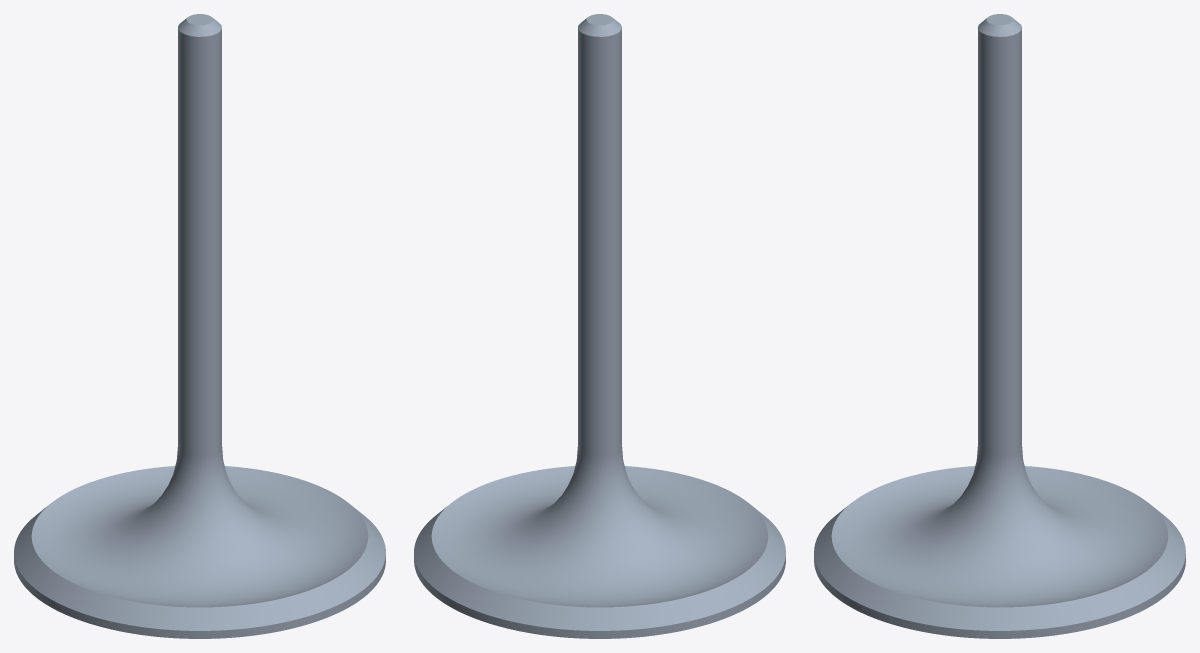
The model's file is engine_valve.obj.
3 views of the same model, side by side, from view 1: azimuth 30°, elevation 25°; view 2: azimuth 150°, elevation 25°; view 3: azimuth 270°, elevation 25° (orthographic).
Parts seen in each view (by area): view 1: 1; view 2: 1; view 3: 1.
Part boxes in pixels (x1,y1,x2,y2): 1: (14, 14, 385, 638); 1: (414, 14, 785, 638); 1: (814, 14, 1185, 638).
Size of the model in its own units: 53.34 by 85.55 by 53.34.
